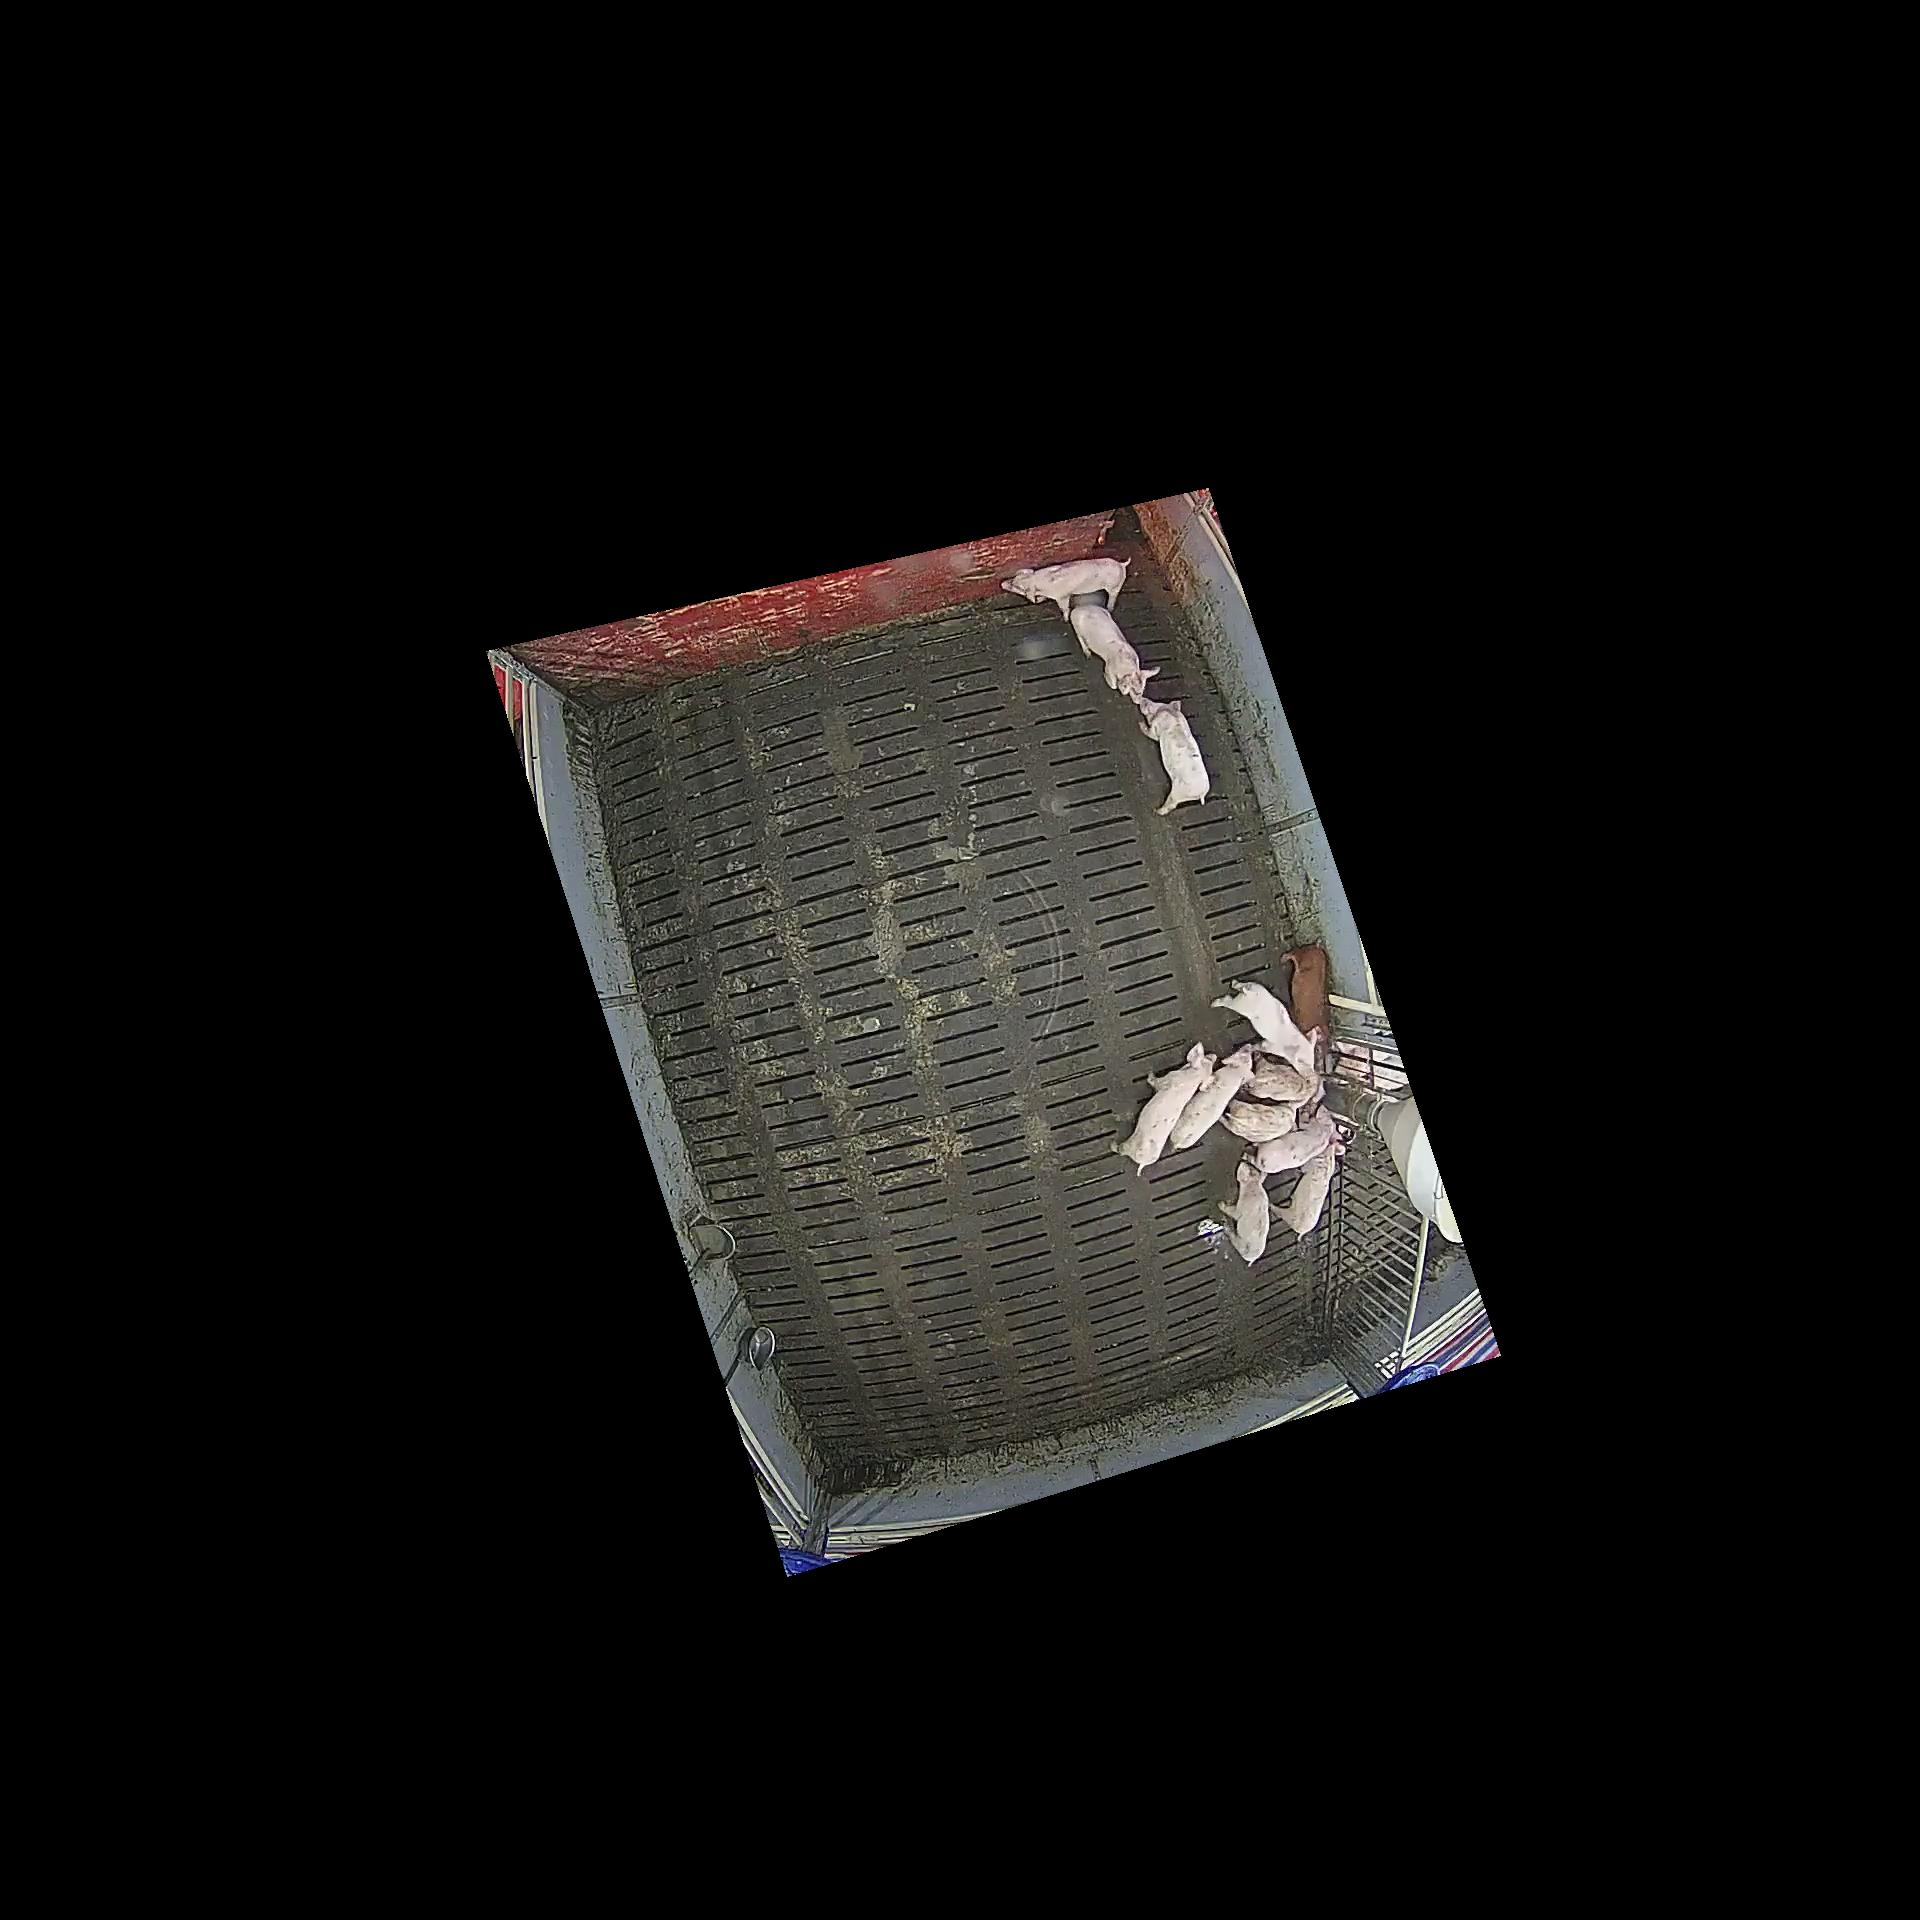pig: (1109, 1043, 1217, 1176), (1210, 979, 1317, 1071), (1071, 605, 1160, 703), (1171, 1044, 1255, 1148), (1000, 556, 1131, 622), (1138, 698, 1210, 816), (1266, 1141, 1347, 1240), (1241, 1106, 1343, 1173), (1217, 1162, 1268, 1266), (1280, 944, 1327, 1053), (1218, 1099, 1308, 1143), (1245, 1051, 1320, 1101)
